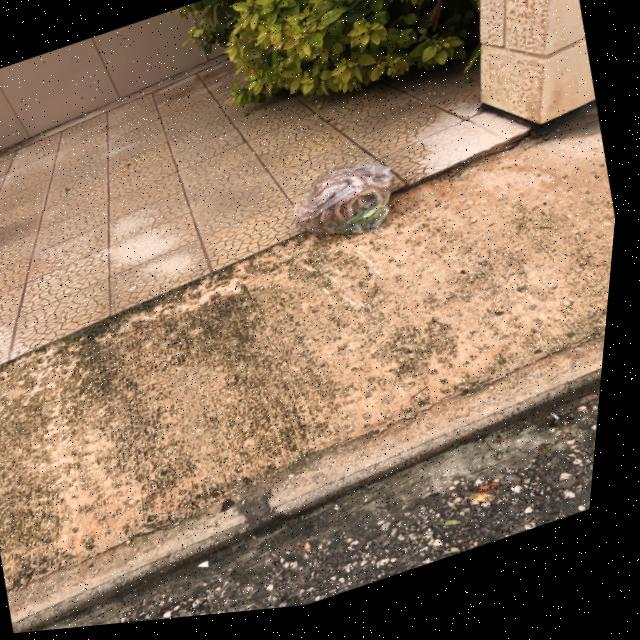Organic Waste -White Bag-: (278, 147, 418, 269)
